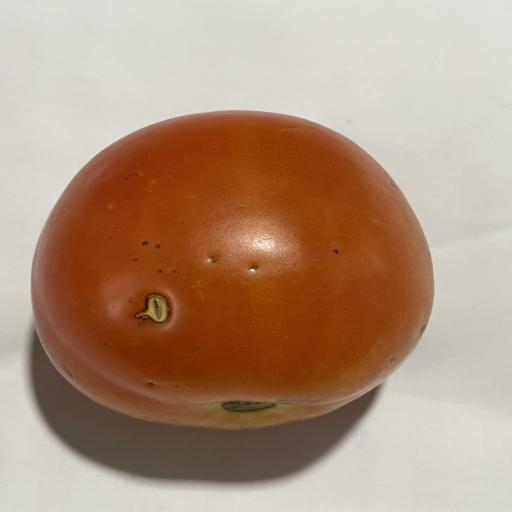ripe: (32, 111, 433, 430)
